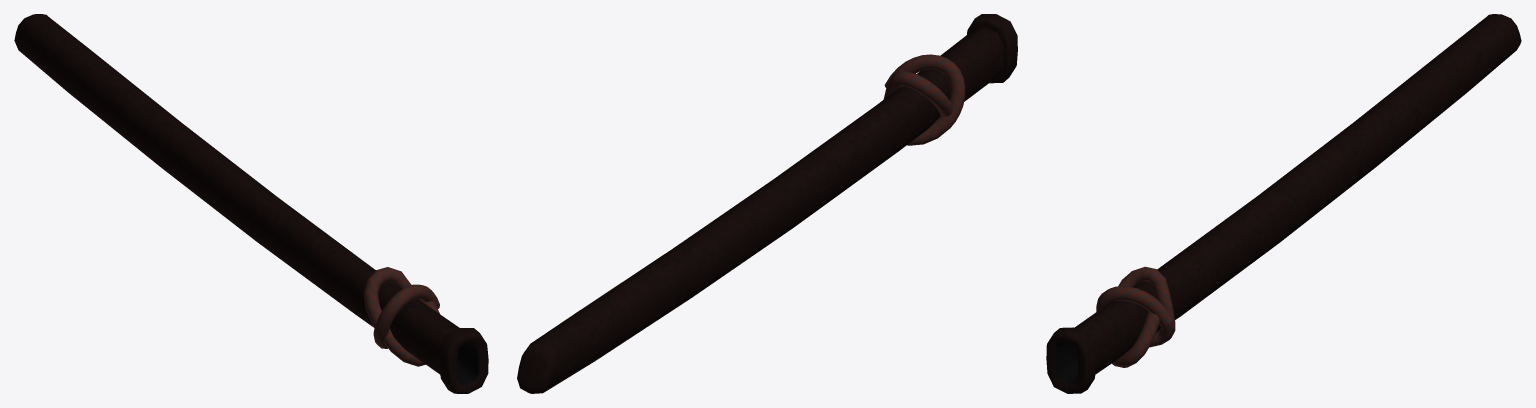
Rendered from Scabbard.glb.
3 renders of one model, left to right at view 1: azimuth 30°, elevation 25°; view 2: azimuth 150°, elevation 25°; view 3: azimuth 330°, elevation 25°, orthographic. The views are drawn at different scales.
Parts seen in each view (by area): view 1: Cube.001; view 2: Cube.001; view 3: Cube.001.
Part boxes in pixels (x1=…): Cube.001: x1=14, y1=14, x2=488, y2=393; Cube.001: x1=517, y1=14, x2=1017, y2=393; Cube.001: x1=1046, y1=14, x2=1521, y2=393.
Size of the model in its own units: 0.0749 by 0.0774 by 0.8475.
Materials: 1 (1 with a texture image).
